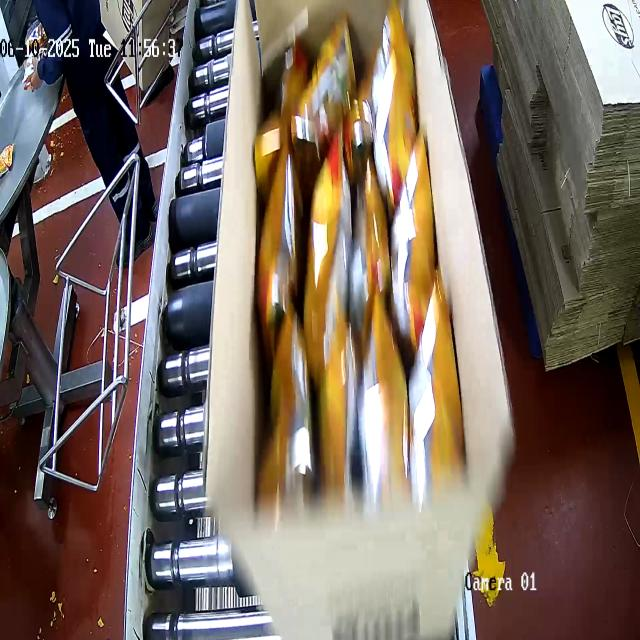FRENCH_CHEESE: (250, 21, 467, 514)
